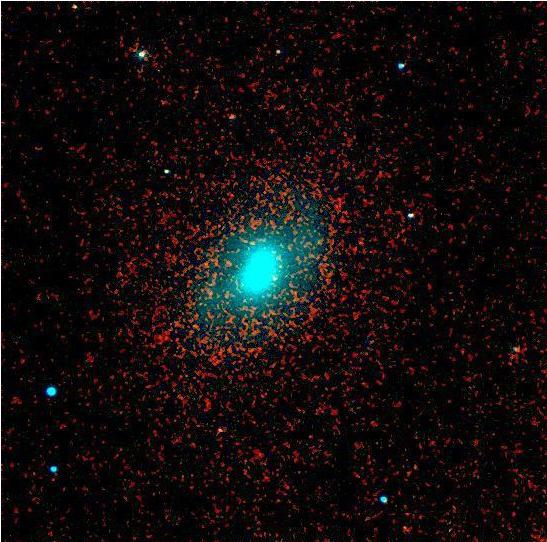star: (307, 227, 337, 257)
